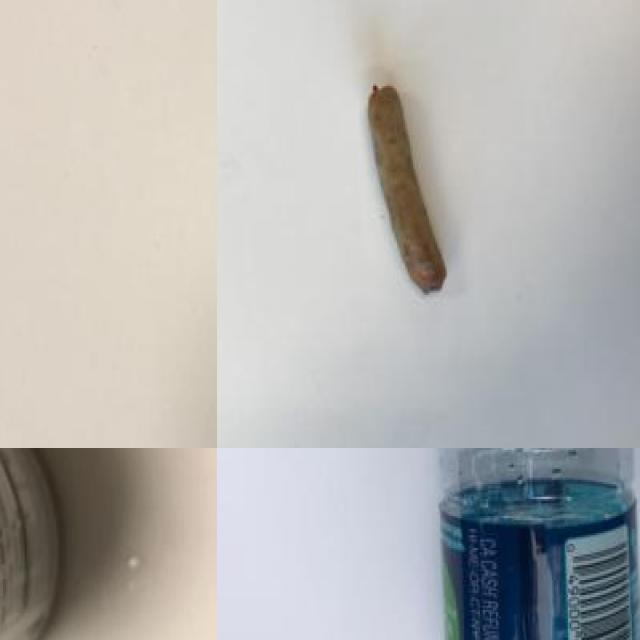compost: (336, 74, 474, 314)
plastic: (427, 448, 640, 640), (0, 448, 72, 640)
